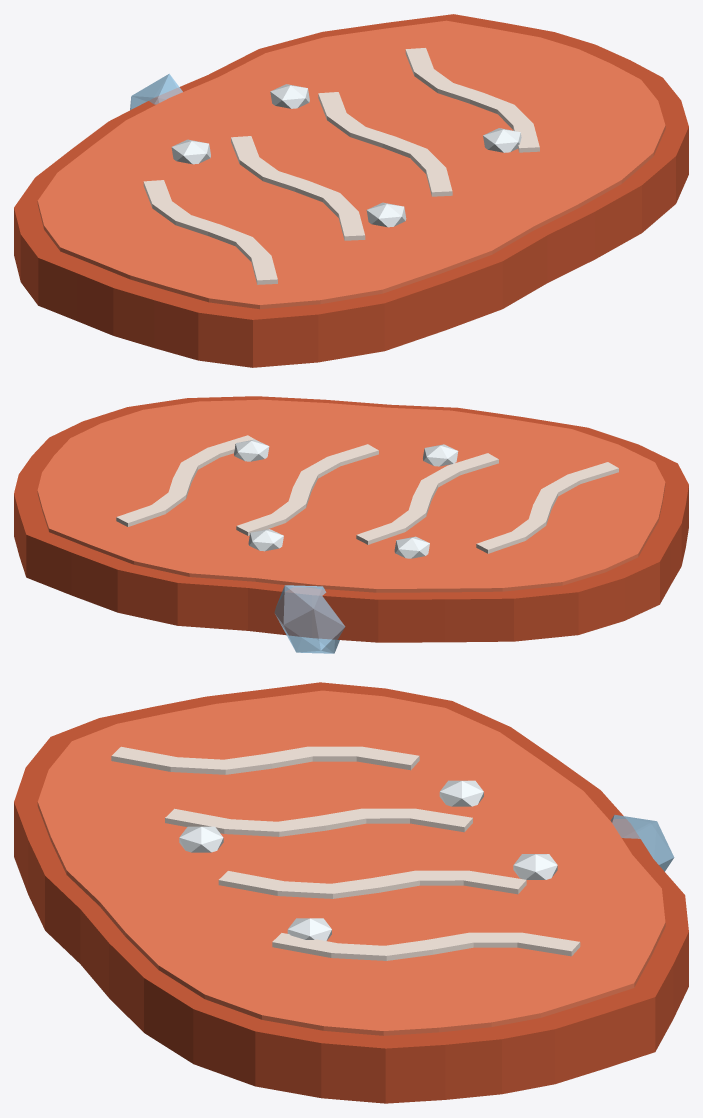
The model's file is Salmon.fbx.
The picture shows the model from 3 angles, top to bottom: view 1: azimuth 30°, elevation 25°; view 2: azimuth 150°, elevation 25°; view 3: azimuth 270°, elevation 25°; orthographic projection. The views are drawn at different scales.
Parts seen in each view (by area): view 1: Top_FA825A, Top_D25A34, Top_FFF0E6, Top_F4FBFF, Top_A8DCFF_Glass; view 2: Top_FA825A, Top_D25A34, Top_FFF0E6, Top_A8DCFF_Glass, Top_F4FBFF; view 3: Top_FA825A, Top_D25A34, Top_FFF0E6, Top_F4FBFF, Top_A8DCFF_Glass.
Part boxes in pixels (x1,y1,x2,y2): Top_FA825A: [37, 20, 665, 309]; Top_D25A34: [14, 14, 688, 367]; Top_FFF0E6: [143, 48, 539, 284]; Top_F4FBFF: [171, 84, 521, 227]; Top_A8DCFF_Glass: [130, 73, 182, 110]; Top_FA825A: [37, 399, 665, 592]; Top_D25A34: [14, 396, 688, 642]; Top_FFF0E6: [116, 435, 618, 553]; Top_A8DCFF_Glass: [274, 585, 345, 653]; Top_F4FBFF: [234, 439, 458, 558]; Top_FA825A: [37, 690, 665, 1035]; Top_D25A34: [14, 682, 688, 1103]; Top_FFF0E6: [111, 746, 580, 960]; Top_F4FBFF: [179, 780, 557, 940]; Top_A8DCFF_Glass: [610, 814, 674, 871].
Bounding box in the file's own units: 2 × 0.2584 × 1.56.
